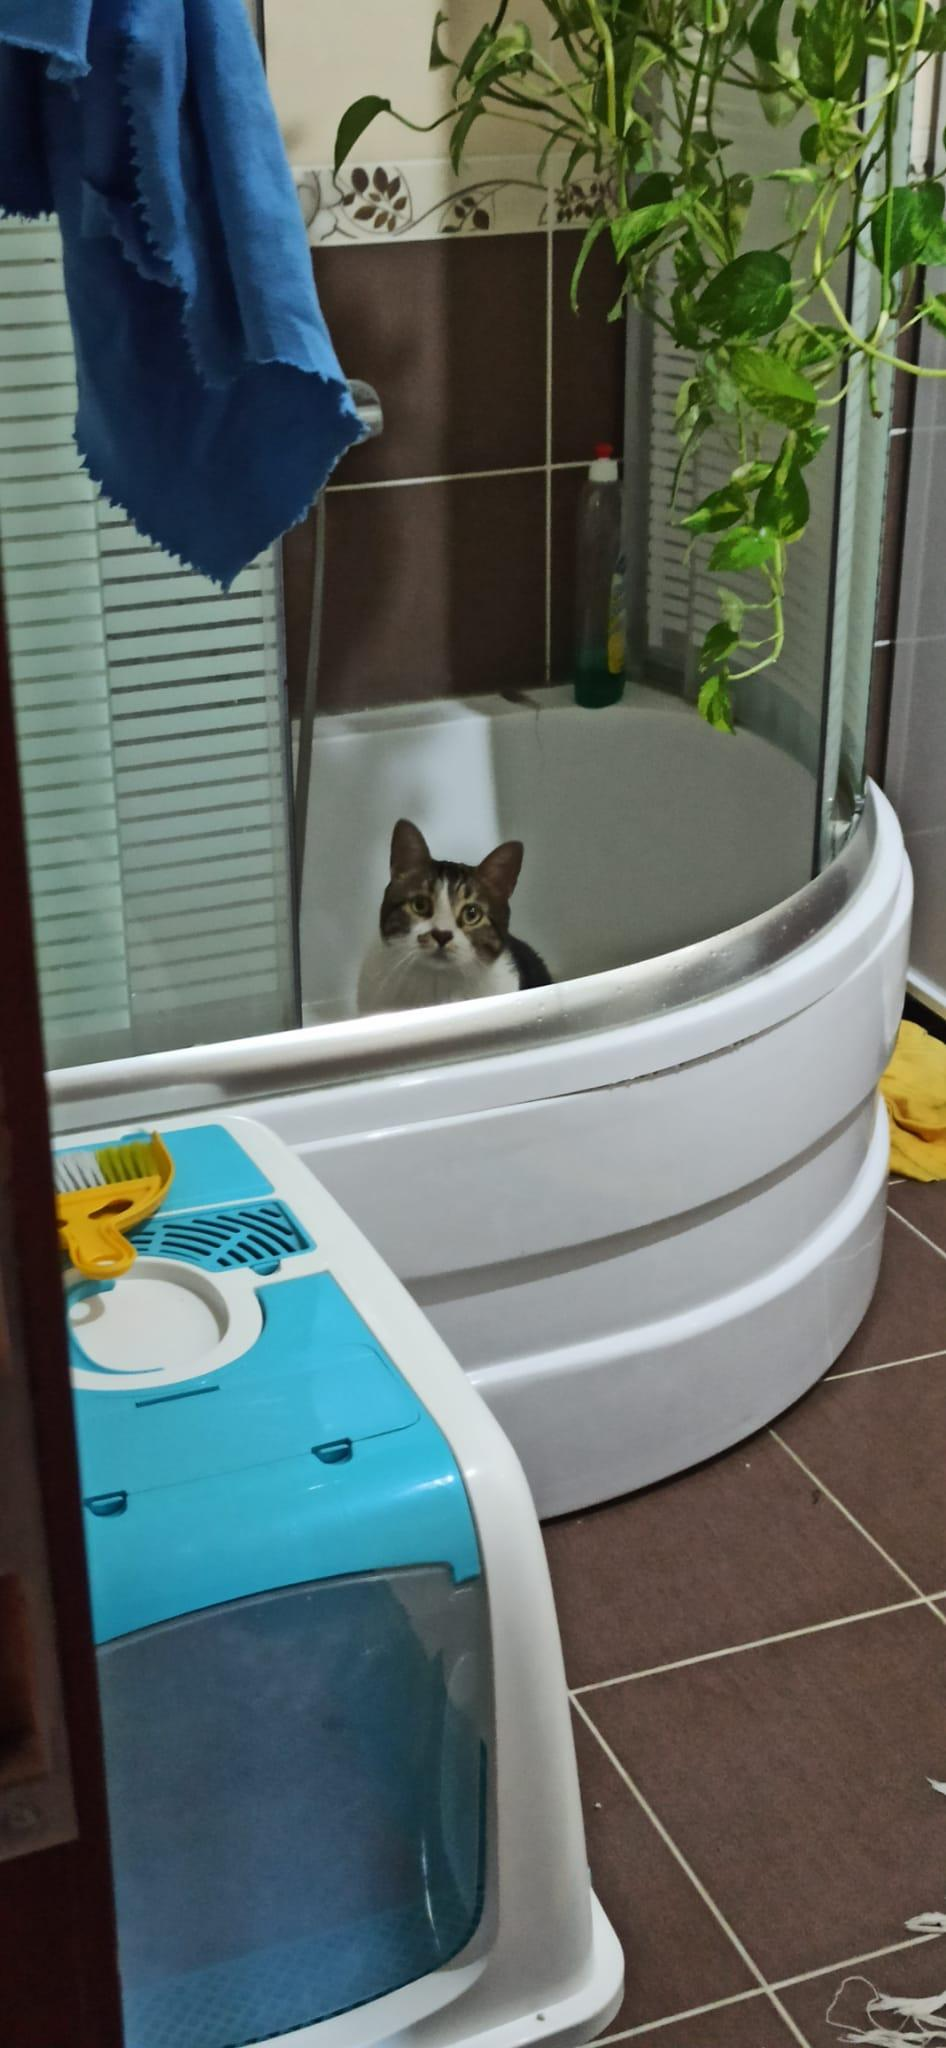kedo: (365, 819, 554, 1007)
